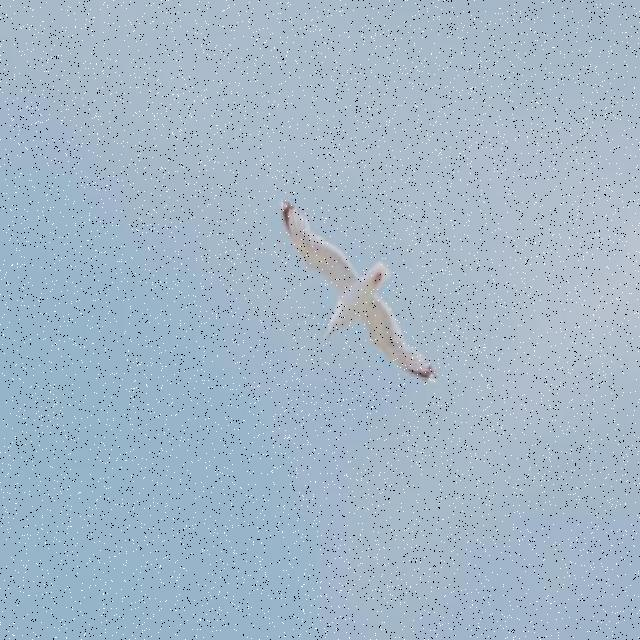bird: (279, 198, 436, 386)
